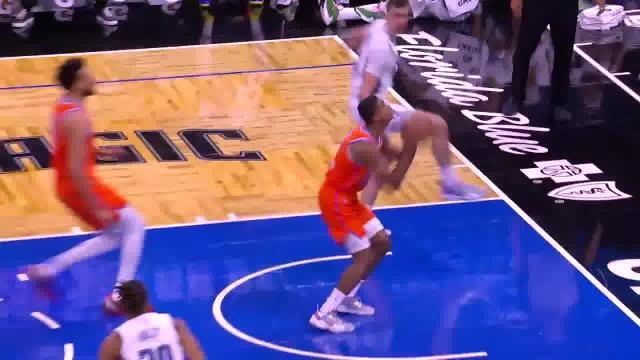ball-handler: (317, 95, 432, 331)
player: (26, 53, 145, 323)
